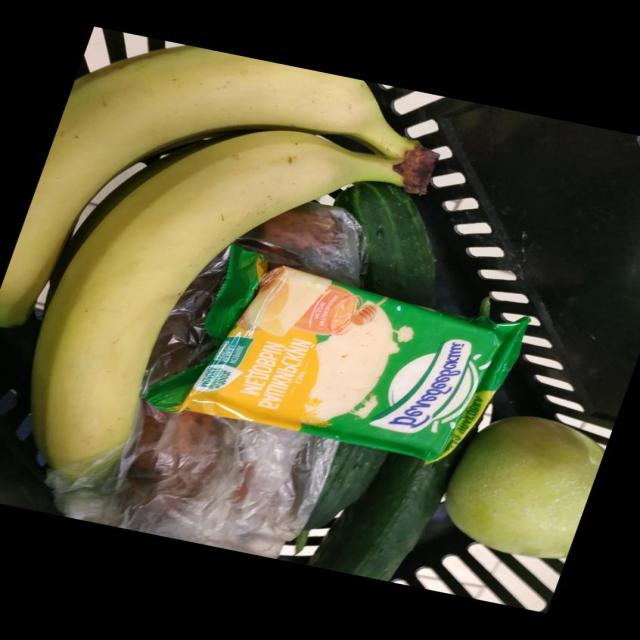Apple: (444, 416, 605, 558)
Banana: (30, 130, 417, 470), (0, 46, 414, 327)
Carrot: (125, 408, 243, 498), (237, 205, 344, 278)
Cheese: (177, 267, 527, 461)
Cucumber: (307, 433, 472, 582), (335, 182, 435, 307), (303, 443, 387, 530)
